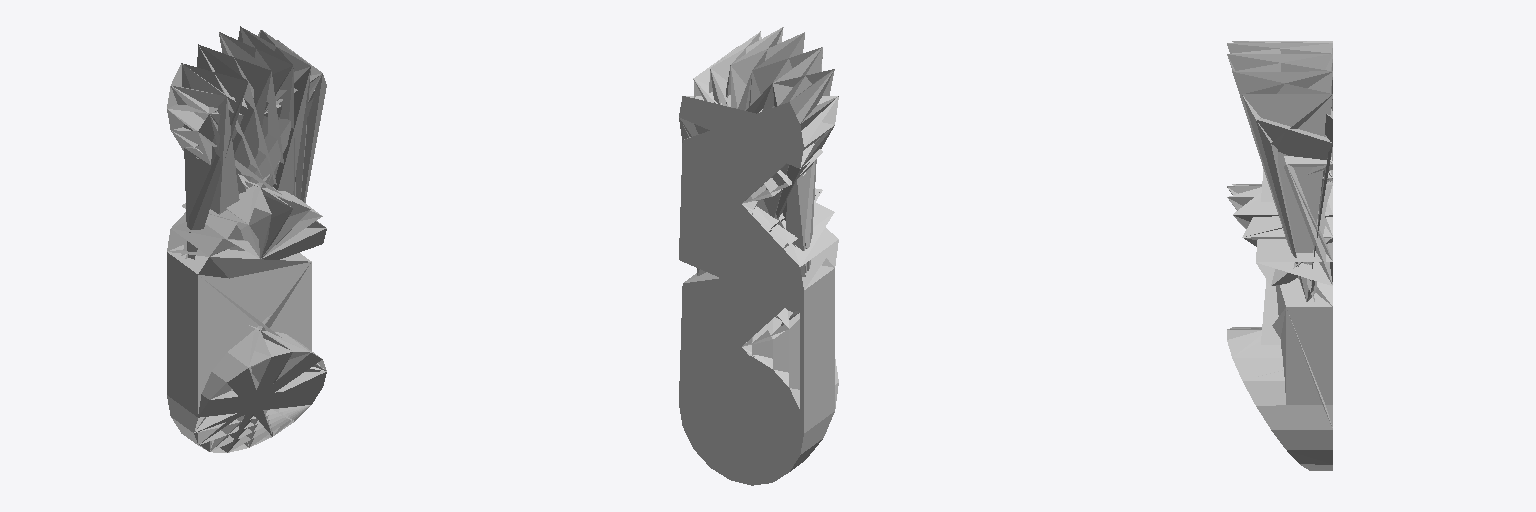
The model's file is Traffic light.obj.
The picture shows the model from 3 angles: view 1: azimuth 30°, elevation 25°; view 2: azimuth 150°, elevation 25°; view 3: azimuth 270°, elevation 25°; orthographic projection.
Visible parts, largest first — view 1: Cylinder001, Cylinder002, Cylinder005; view 2: Cylinder002, Cylinder001, Cylinder005; view 3: Cylinder001, Cylinder002, Cylinder005.
Part boxes in pixels (x1,y1,x2,y2): Cylinder001: (167, 26, 326, 452); Cylinder002: (167, 27, 326, 452); Cylinder005: (167, 339, 317, 452); Cylinder002: (679, 27, 838, 433); Cylinder001: (679, 27, 838, 454); Cylinder005: (679, 352, 838, 485); Cylinder001: (1227, 41, 1332, 449); Cylinder002: (1227, 41, 1332, 464); Cylinder005: (1227, 327, 1332, 470).
Size of the model in its own units: 169 by 536 by 124.